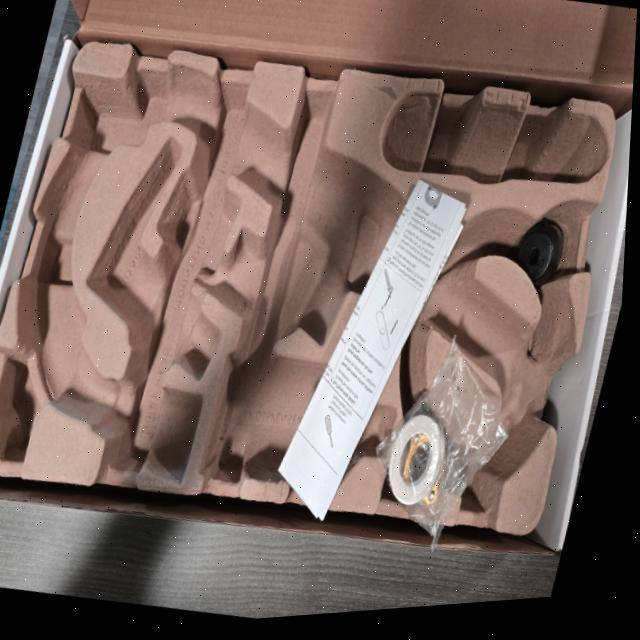1m: (17, 71, 569, 480)
2m: (85, 140, 220, 375)
3m: (199, 355, 392, 490)
4m: (381, 90, 606, 187)
5: (516, 215, 562, 285)
6: (376, 331, 509, 553)
7m: (447, 404, 540, 512)
8: (275, 177, 466, 522)
